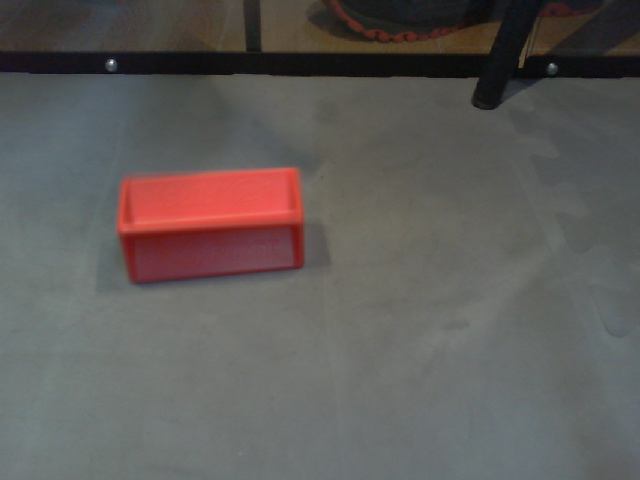RedSample: (115, 166, 305, 283)
